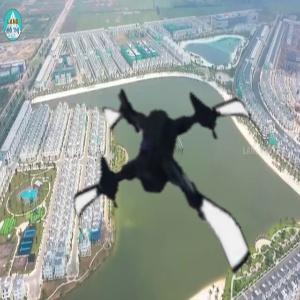drone: (62, 72, 285, 295)
